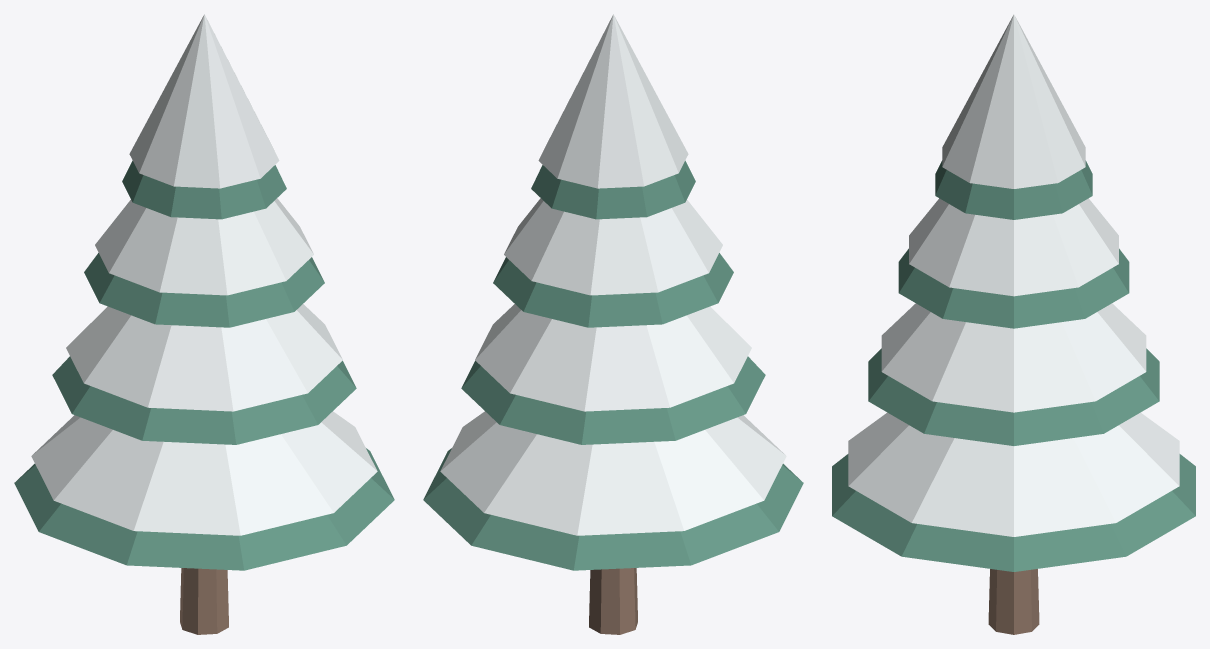
File: snow_pine.glb
3 renders of one model, left to right at view 1: azimuth 30°, elevation 25°; view 2: azimuth 150°, elevation 25°; view 3: azimuth 270°, elevation 25°, orthographic.
Parts seen in each view (by area): view 1: snow_pine; view 2: snow_pine; view 3: snow_pine.
Part boxes in pixels (<box>): snow_pine: <box>14,14,394,634</box>; snow_pine: <box>423,14,803,634</box>; snow_pine: <box>832,14,1195,634</box>.
Bounding box in the file's own units: 3 × 5.28 × 2.85.
